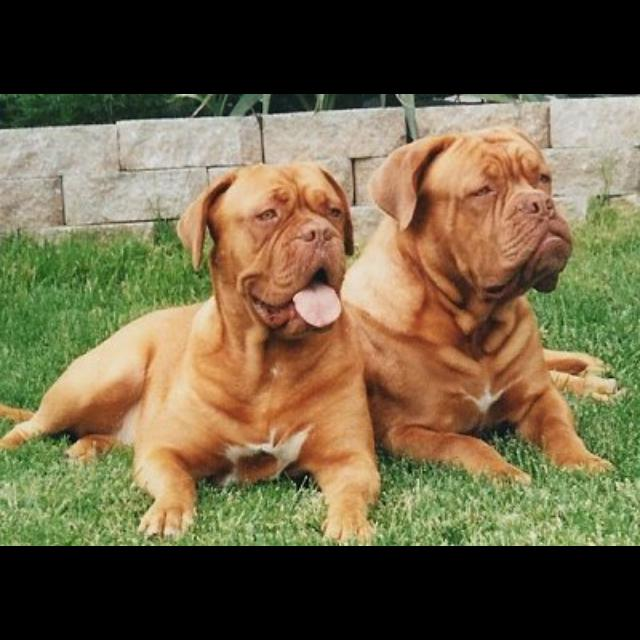dogue_de_bordeaux: (1, 161, 383, 546), (340, 126, 628, 489)
